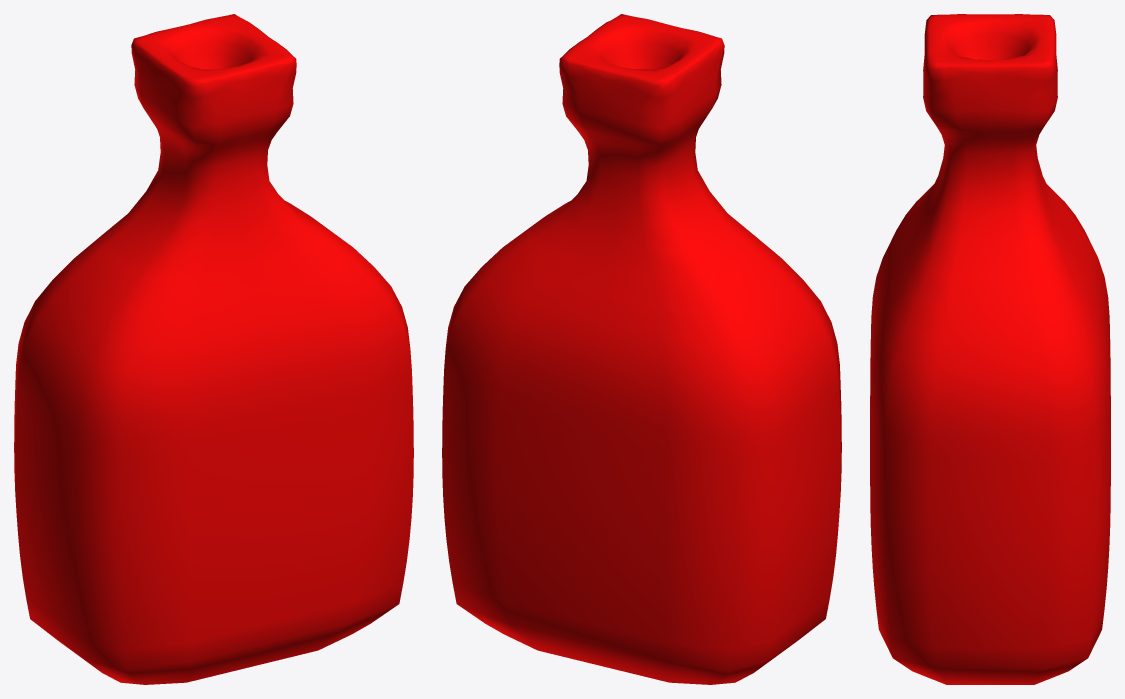
The model's file is umgebung_flasche_3_low.FBX.
The picture shows the model from 3 angles, left to right: view 1: azimuth 30°, elevation 25°; view 2: azimuth 150°, elevation 25°; view 3: azimuth 270°, elevation 25°; orthographic projection.
Parts seen in each view (by area): view 1: o_flasche_3_low; view 2: o_flasche_3_low; view 3: o_flasche_3_low.
Part boxes in pixels (x1=…): o_flasche_3_low: x1=14, y1=14, x2=413, y2=684; o_flasche_3_low: x1=442, y1=14, x2=841, y2=684; o_flasche_3_low: x1=870, y1=14, x2=1110, y2=684.
Size of the model in its own units: 16.87 by 28.55 by 10.48.
